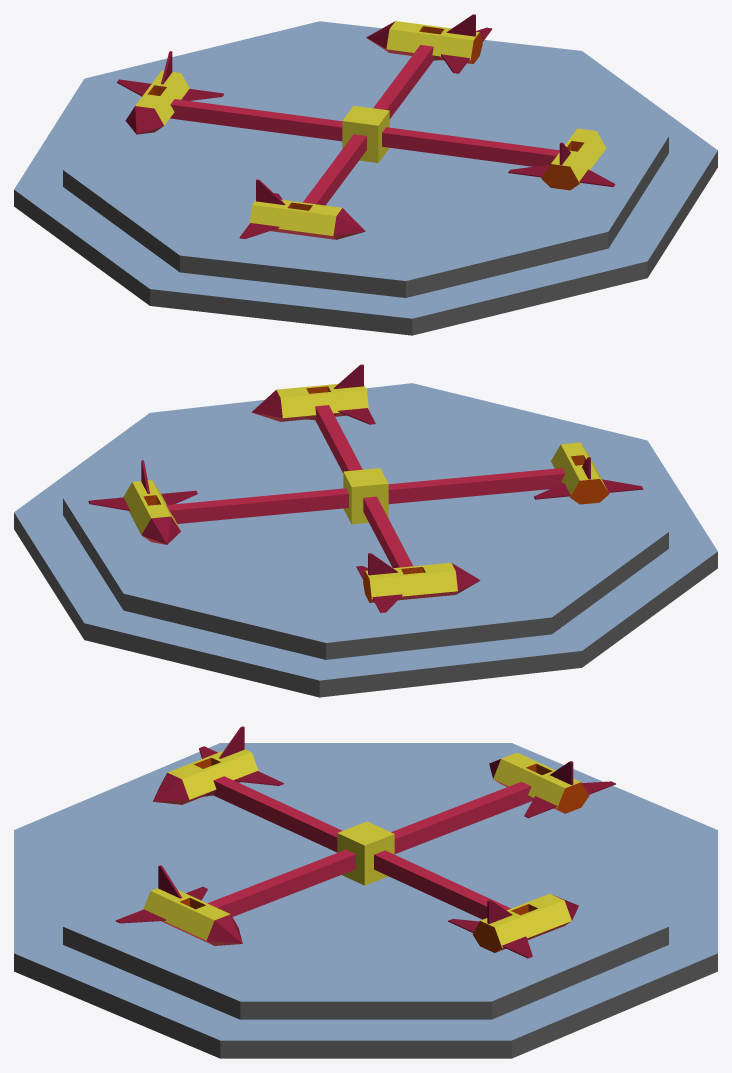
File: Carousel01.fbx
3 views of the same model, one above another, from view 1: azimuth 30°, elevation 25°; view 2: azimuth 150°, elevation 25°; view 3: azimuth 270°, elevation 25° (orthographic). The views are drawn at different scales.
Parts seen in each view (by area): view 1: Carousel01; view 2: Carousel01; view 3: Carousel01.
Boxes of the visible parts, x1,y1,x2,y2 form: Carousel01: [14, 14, 717, 335]; Carousel01: [14, 364, 717, 697]; Carousel01: [14, 726, 717, 1058].
Bounding box in the file's own units: 966 × 145 × 966.
